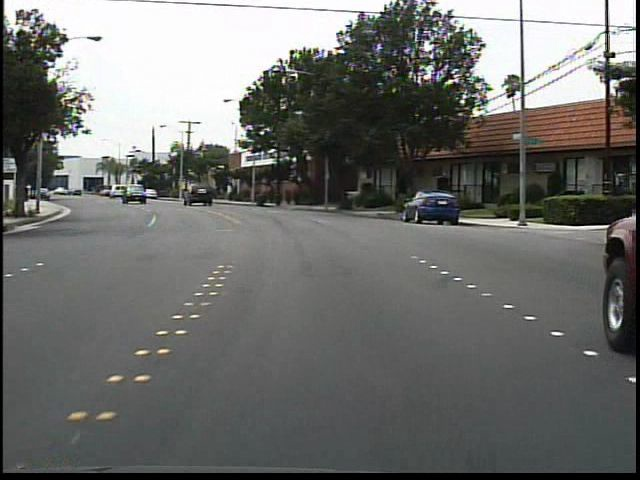person: (19, 179, 37, 208)
